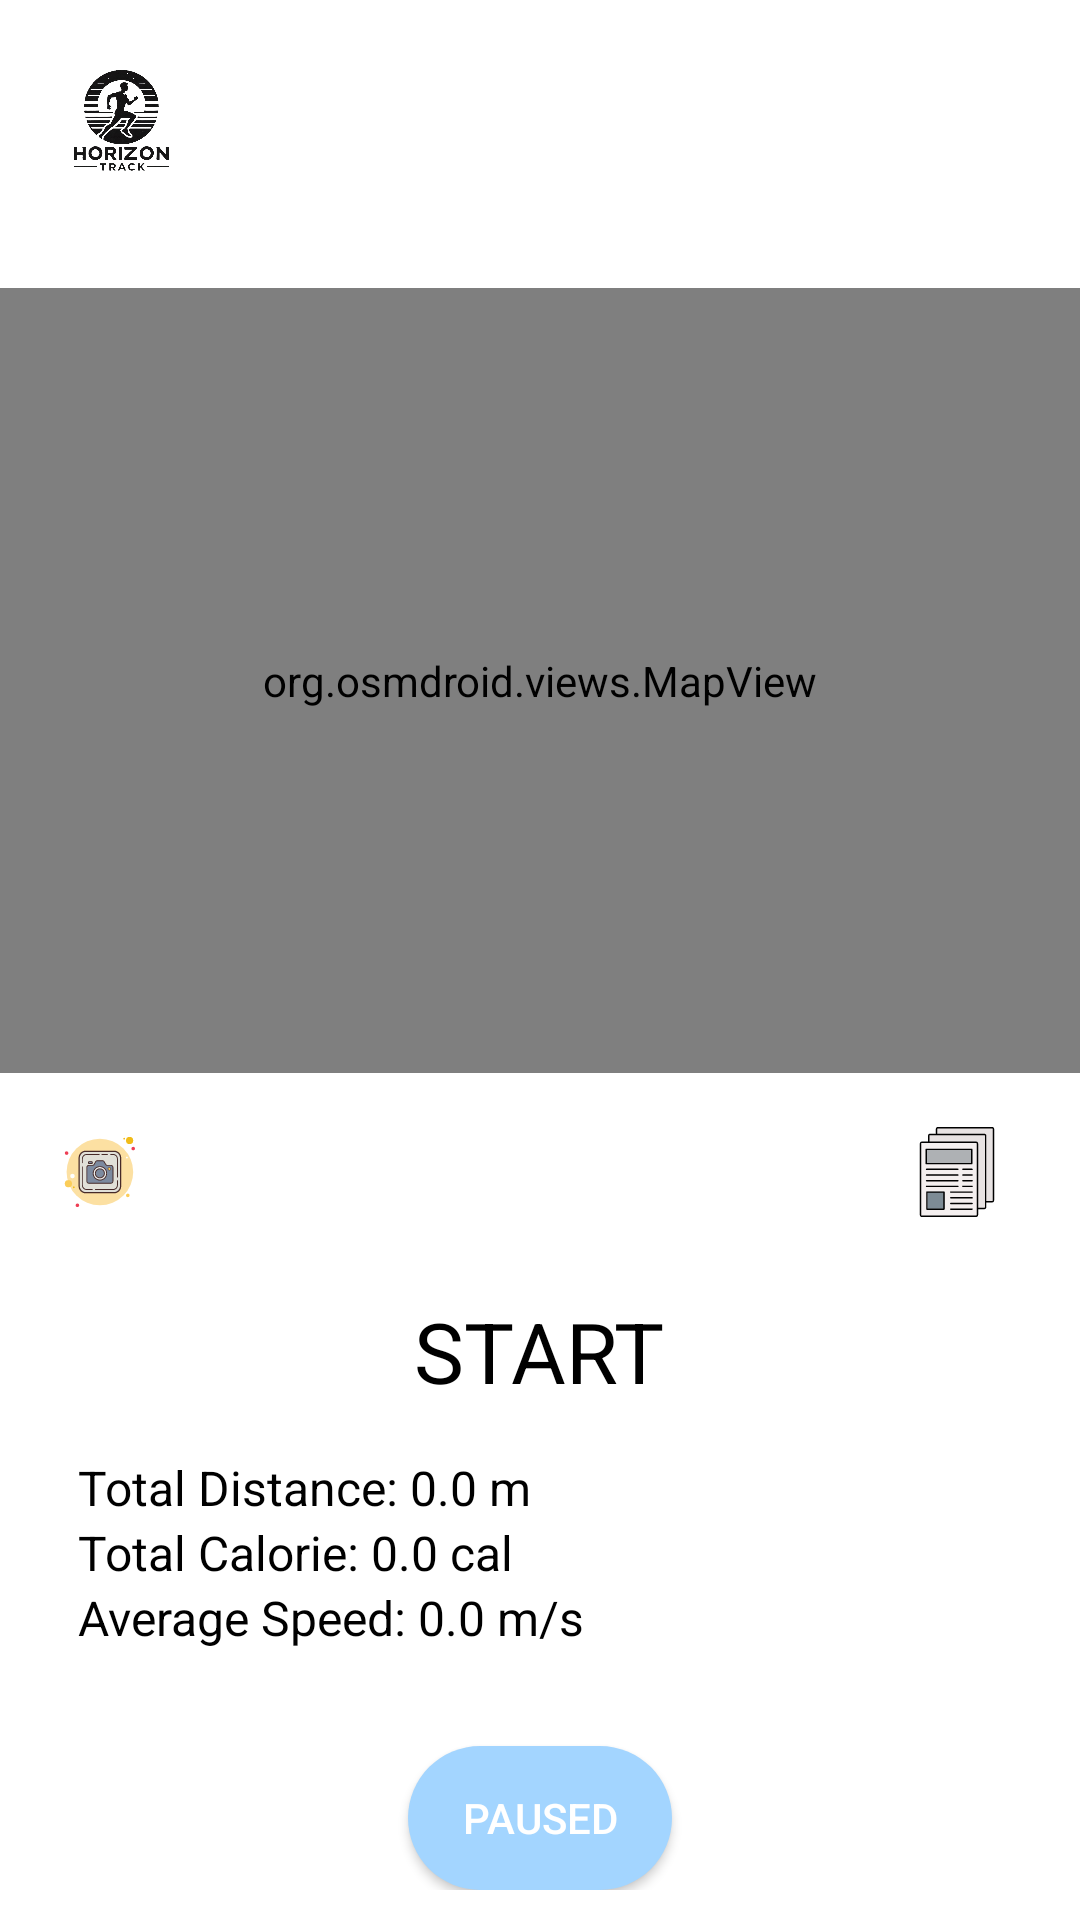

Screen size 1080×1920. Icon name, then its box in pixels as (x1, y1, x2, y2):
Camera Icon: (64, 1137, 135, 1207)
Journal Icon: (919, 1127, 995, 1217)
